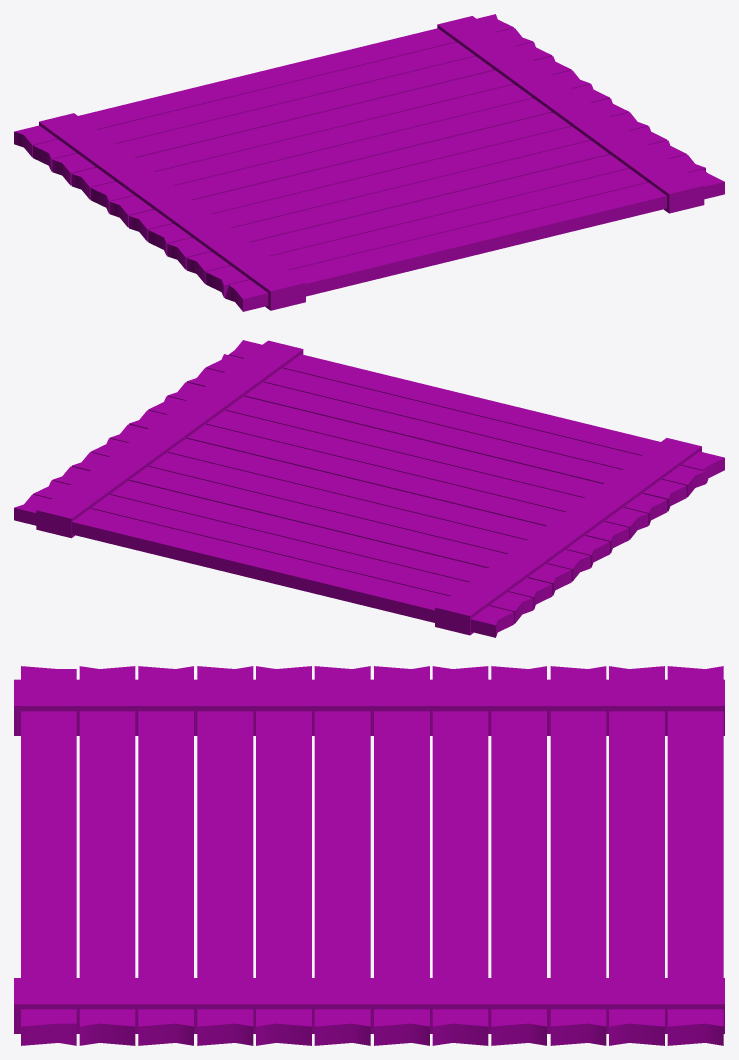
Rendered from Platform_Wood_1.fbx.
3 renders of one model, top to bottom at view 1: azimuth 30°, elevation 25°; view 2: azimuth 150°, elevation 25°; view 3: azimuth 270°, elevation 25°, orthographic. The views are drawn at different scales.
Visible parts, largest first — view 1: pCube270, Steel_Band1; view 2: pCube270, Steel_Band1; view 3: pCube270, Steel_Band1.
Part boxes in pixels (x1,y1,x2,y2): pCube270: (14,14,724,311); Steel_Band1: (39,16,704,310); pCube270: (14,340,724,637); Steel_Band1: (36,340,701,635); pCube270: (21,666,723,1045); Steel_Band1: (14,679,724,1033).
Size of the model in its own units: 7.69 by 0.2968 by 6.41.
